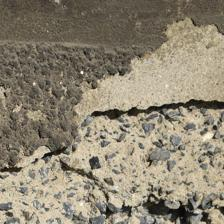Crack: (78, 0, 146, 85), (116, 49, 156, 101)
